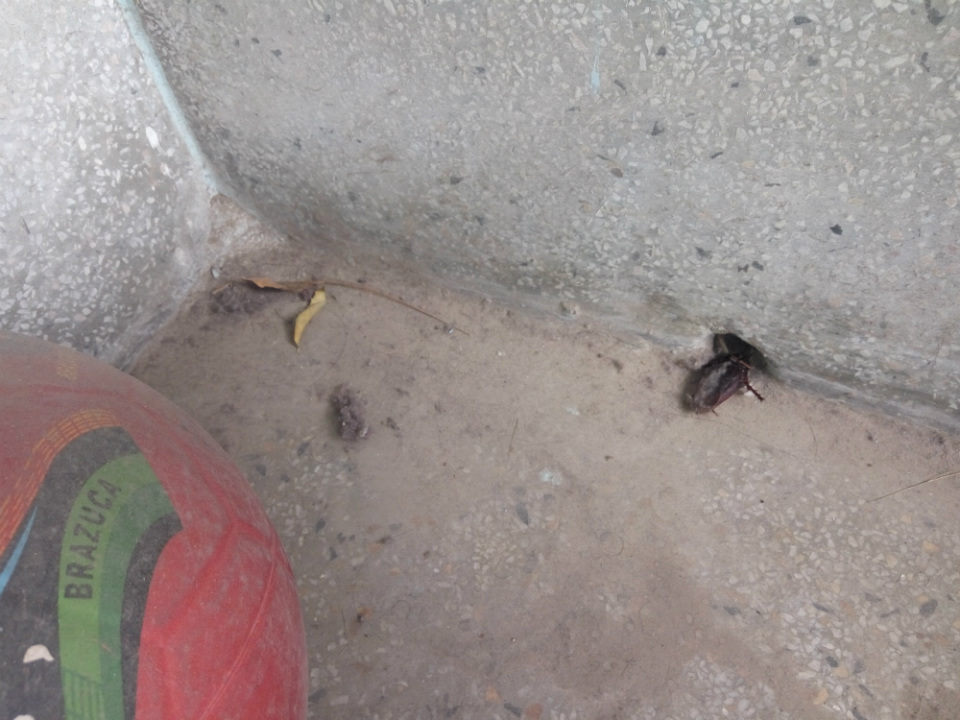cockroach: (650, 330, 782, 428)
